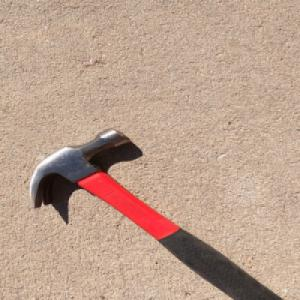Hammer: (25, 127, 286, 300)
